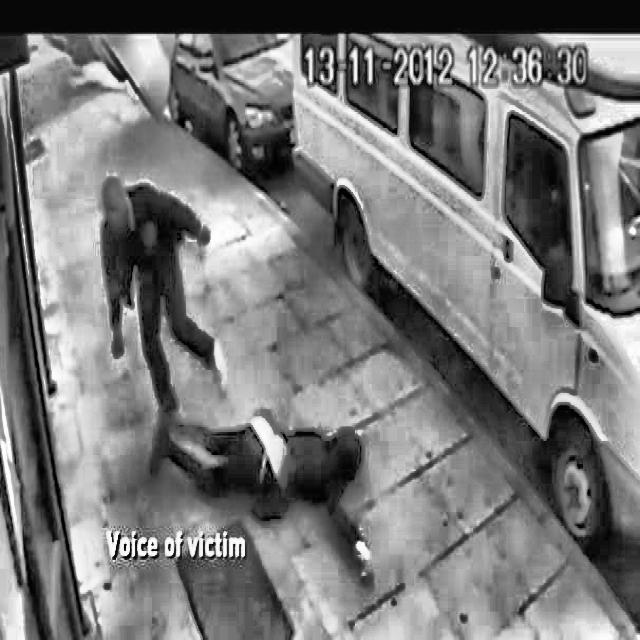robbery: (92, 160, 414, 528)
